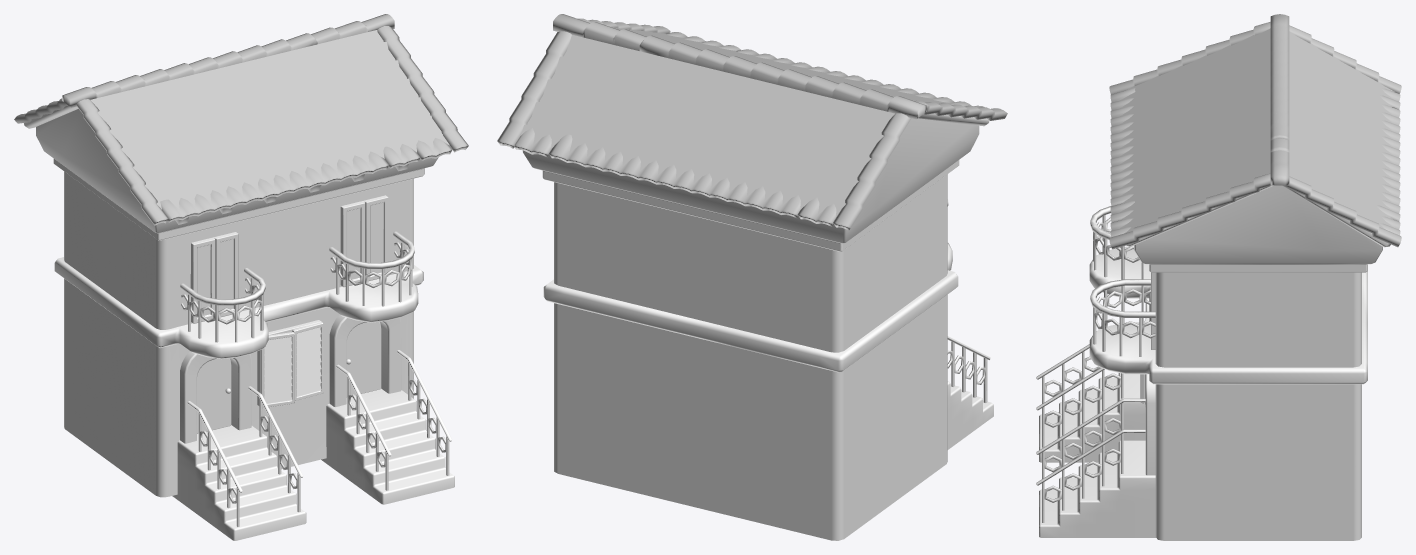
The model's file is BackgroundBuilding6.fbx.
3 renders of one model, left to right at view 1: azimuth 30°, elevation 25°; view 2: azimuth 150°, elevation 25°; view 3: azimuth 270°, elevation 25°, orthographic. The views are drawn at different scales.
Parts seen in each view (by area): view 1: Cube.062; view 2: Cube.062; view 3: Cube.062.
Part boxes in pixels (box(x1,y1,x2,y2)): Cube.062: box(14, 14, 468, 540); Cube.062: box(497, 14, 1007, 540); Cube.062: box(1036, 14, 1401, 540).
Size of the model in its own units: 961 by 1058 by 902.
